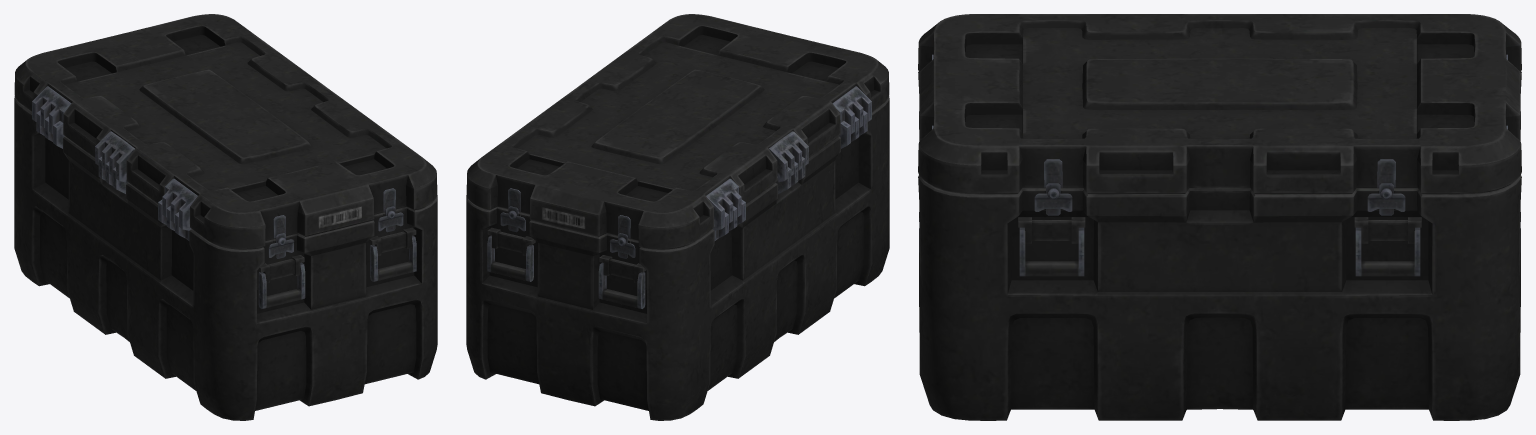
The model's file is case_big.glb.
The picture shows the model from 3 angles, left to right: view 1: azimuth 30°, elevation 25°; view 2: azimuth 150°, elevation 25°; view 3: azimuth 270°, elevation 25°; orthographic projection. The views are drawn at different scales.
Parts seen in each view (by area): view 1: body, lid; view 2: body, lid; view 3: body, lid.
Boxes of the visible parts, x1=… form: body: x1=14, y1=96, x2=437, y2=420; lid: x1=14, y1=14, x2=437, y2=249; body: x1=466, y1=96, x2=889, y2=420; lid: x1=466, y1=14, x2=889, y2=249; body: x1=918, y1=72, x2=1521, y2=420; lid: x1=918, y1=14, x2=1521, y2=193.
Bounding box in the file's own units: 0.7066 × 0.6011 × 1.21.
Materials: 1 (1 with a texture image).
